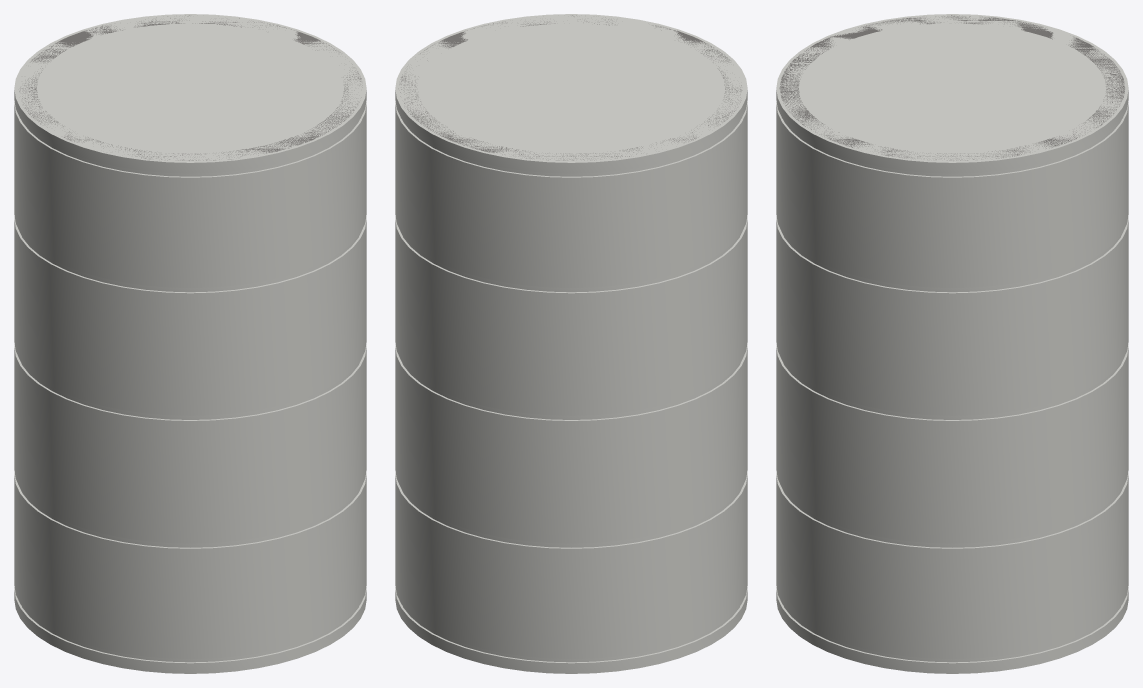
The model's file is ax_aero_07_fs1_fuselage.glb.
3 renders of one model, left to right at view 1: azimuth 30°, elevation 25°; view 2: azimuth 150°, elevation 25°; view 3: azimuth 270°, elevation 25°, orthographic.
Visible parts, largest first — view 1: fuselage, end_frames; view 2: fuselage, end_frames; view 3: fuselage, end_frames.
Boxes of the visible parts, x1,y1,x2,y2 form: fuselage: (14,14,366,673); end_frames: (19,15,362,160); fuselage: (395,14,747,673); end_frames: (398,15,742,160); fuselage: (776,14,1128,673); end_frames: (779,15,1124,160).
Size of the model in its own units: 1.25 by 2 by 1.25.
2 materials, 1 textured.
